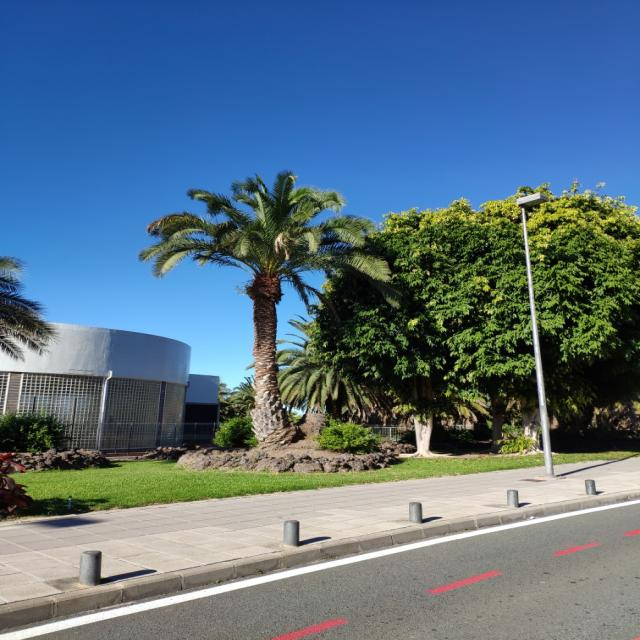Palm-Trees: (136, 168, 392, 446)
